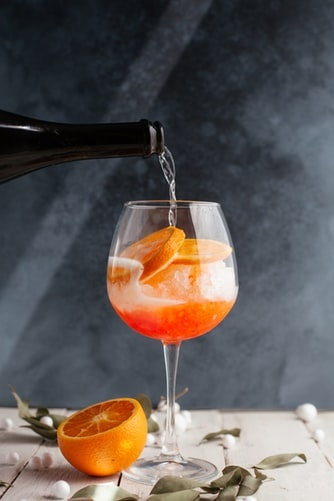whiskey: (98, 195, 241, 452)
